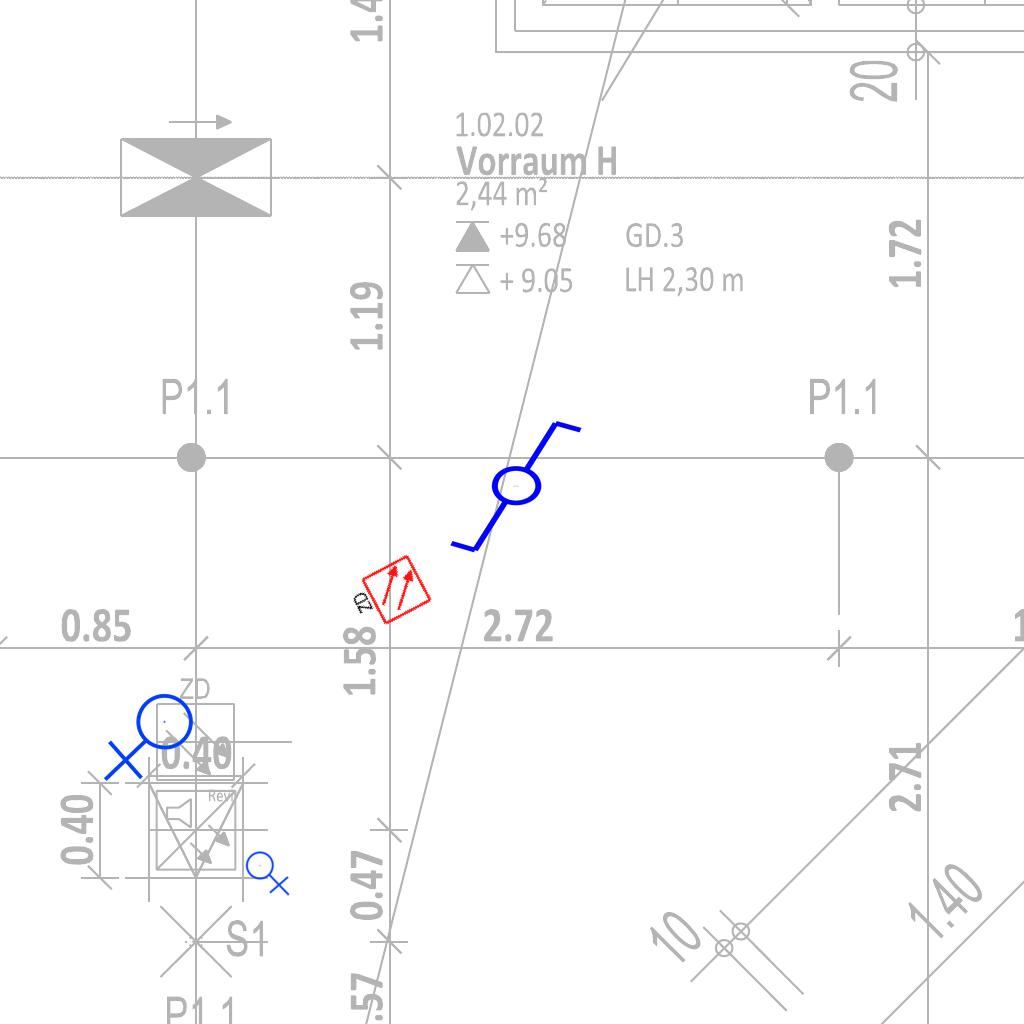Elektroanschluss_allgemein_230V_Geraeteanschlussdose_230V: (103, 692, 202, 786), (245, 847, 292, 896)
Wechselschalter: (446, 416, 603, 560)
ZD_Melder_in_Zwischendecke_mit_Revisionsoeffnung_mind_40_x_40_cm: (342, 552, 435, 638)
